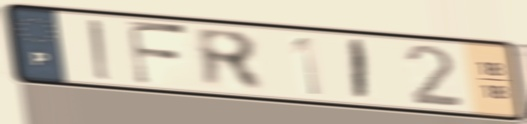1: (290, 36, 324, 97)
2: (401, 42, 467, 108)
F: (124, 18, 193, 89)
I: (85, 17, 115, 83), (349, 37, 371, 104)
R: (191, 24, 270, 94)
